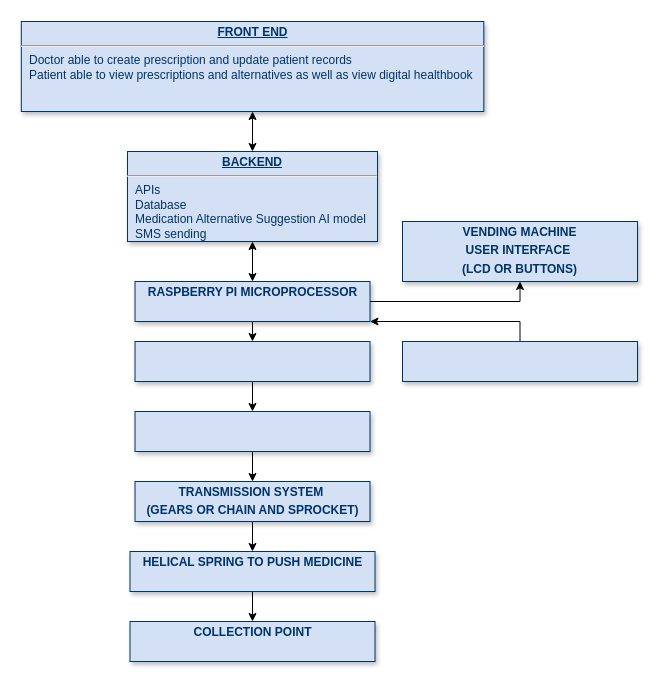
Some shapes in this 662 by 686 pixel diagram are drawn without their labels. The shapes that lost their labels are listed below. From the top down, each one's centre as x and y in pixels, then its label:
At point 253,362: "MOTOR DRIVER".
At point 521,362: "DC POWER SUPPLY".
At point 253,432: "DC MOTORS".
